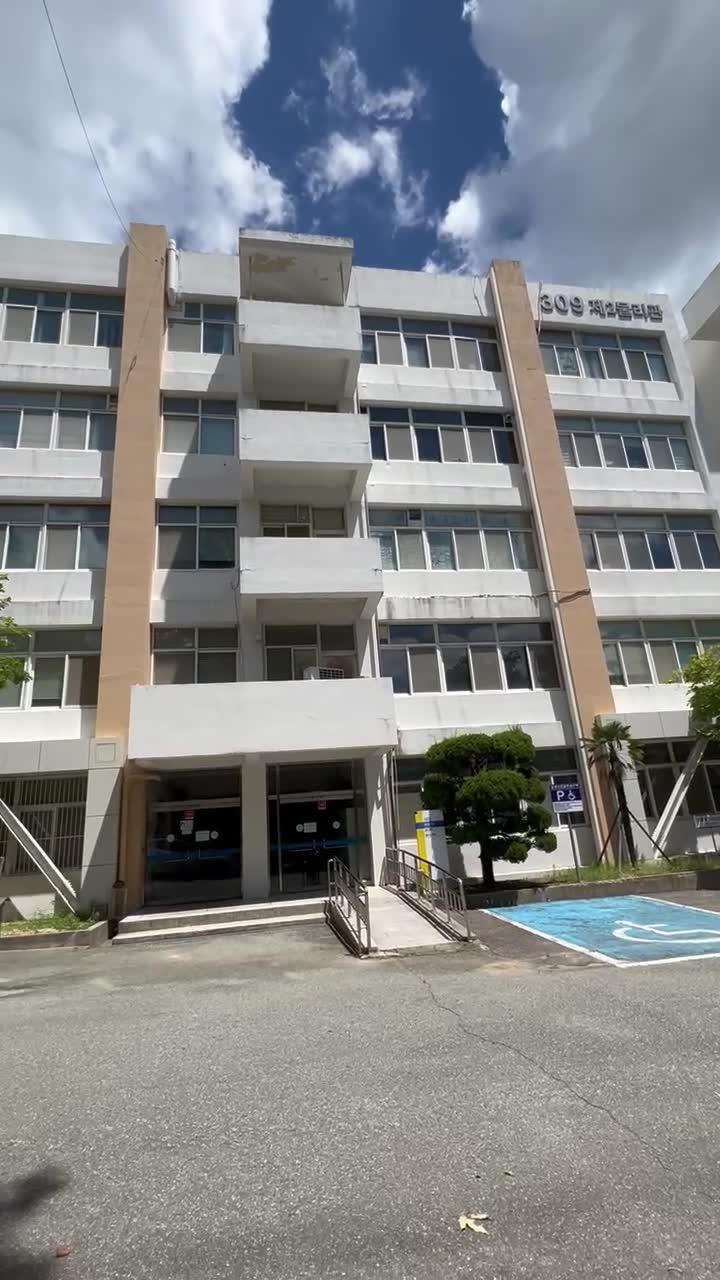building: (42, 228, 680, 738)
